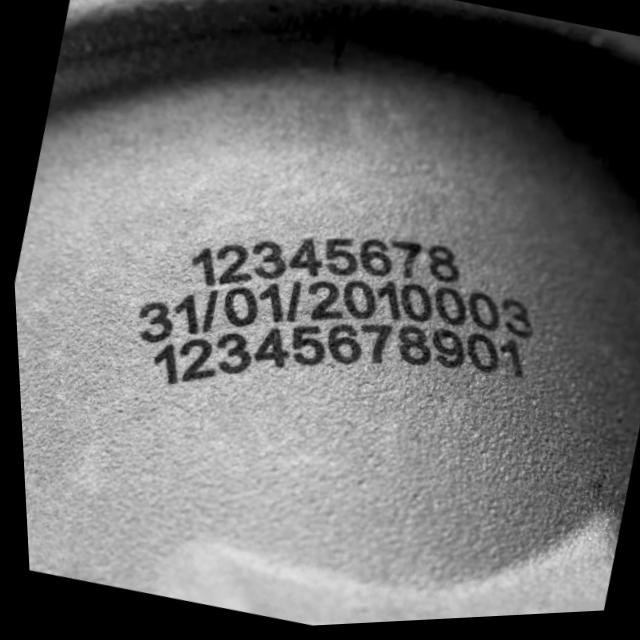ocr: (112, 165, 567, 476)
